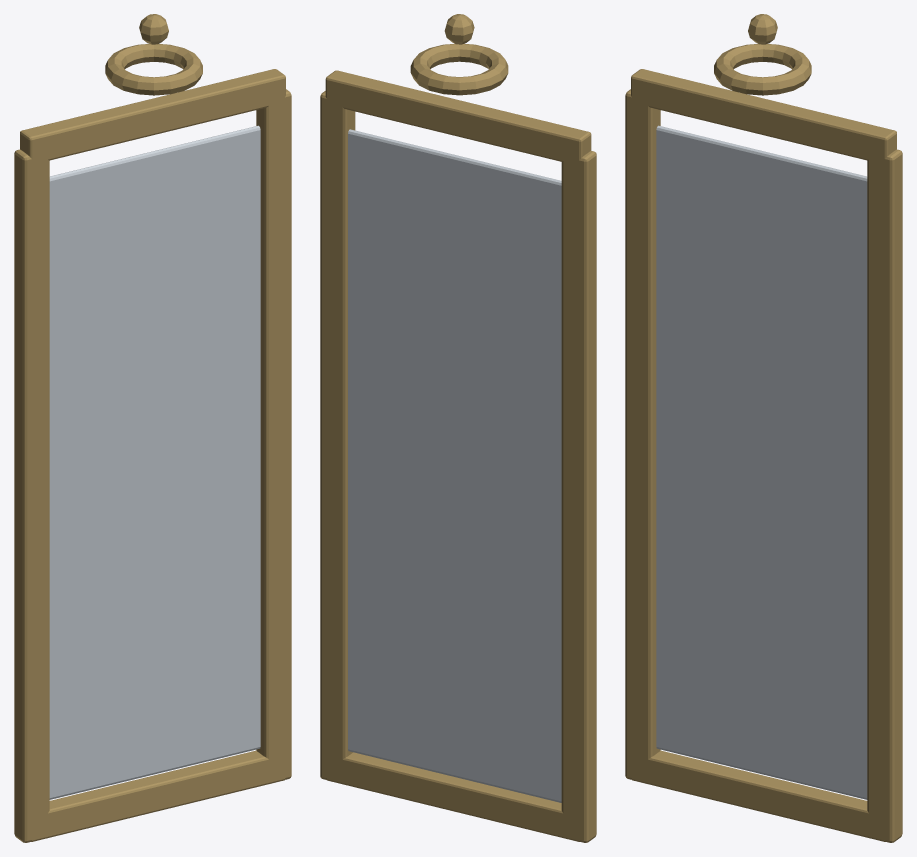
3 views of the same model, side by side, from view 1: azimuth 30°, elevation 25°; view 2: azimuth 150°, elevation 25°; view 3: azimuth 330°, elevation 25° (orthographic).
Visible parts, largest first — view 1: pierMirror; view 2: pierMirror; view 3: pierMirror.
Part boxes in pixels (x1=…): pierMirror: x1=14, y1=14, x2=291, y2=842; pierMirror: x1=320, y1=14, x2=596, y2=842; pierMirror: x1=625, y1=14, x2=902, y2=842.
Size of the model in its own units: 0.7 by 1.97 by 0.2206.
